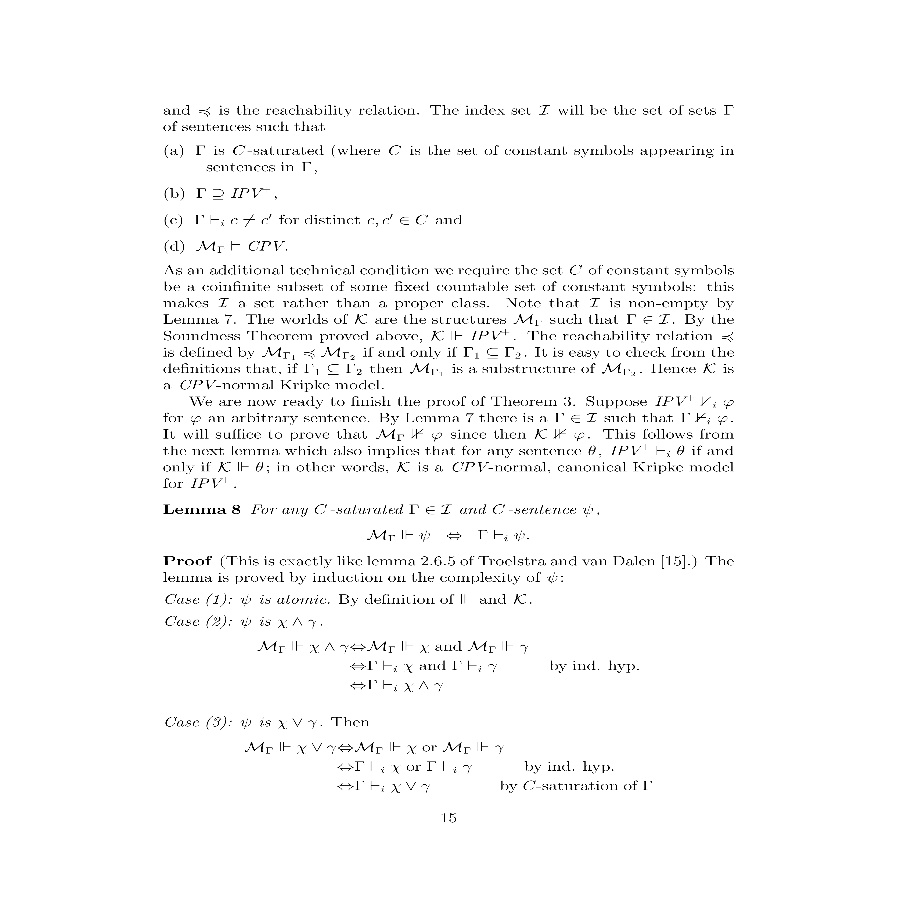eq: (242, 736, 661, 798), (253, 636, 642, 697), (366, 525, 536, 544)
